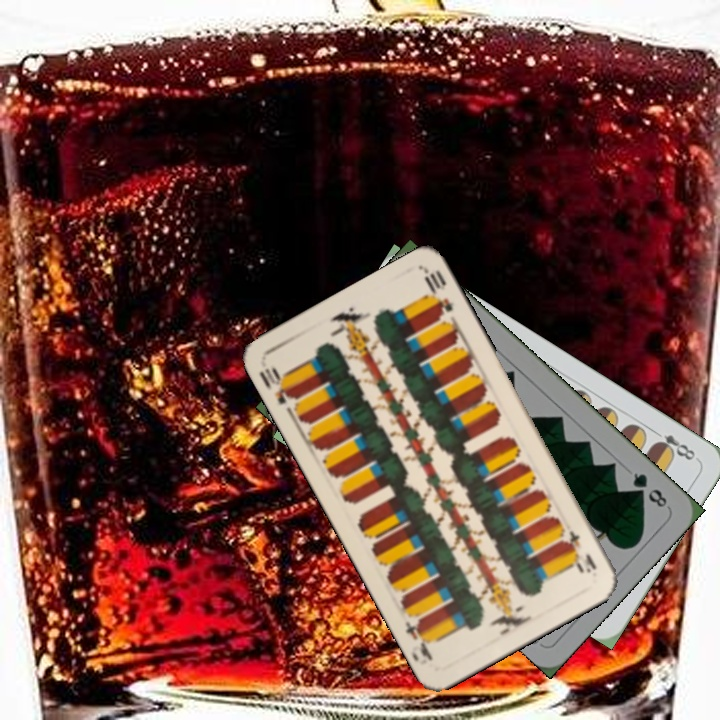E10: (256, 362, 302, 412), (561, 526, 600, 576)
E8: (648, 425, 698, 463)
G8: (628, 468, 670, 511)
